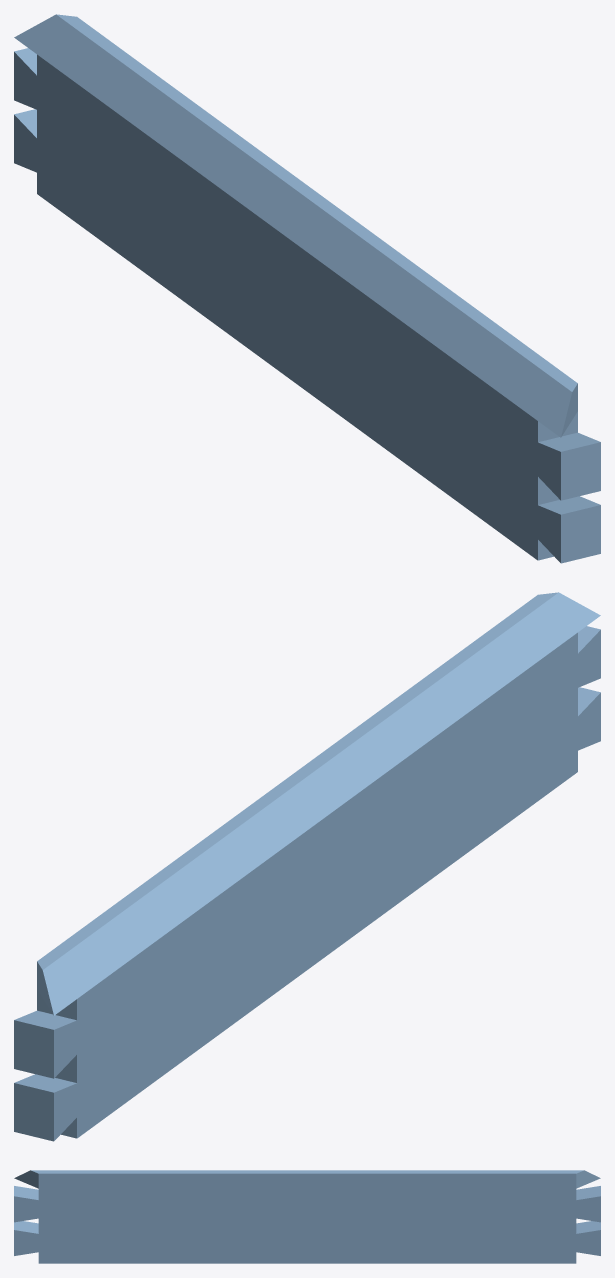
Rendered from original-101.obj.
3 renders of one model, top to bottom at view 1: azimuth 30°, elevation 25°; view 2: azimuth 150°, elevation 25°; view 3: azimuth 270°, elevation 25°, orthographic. The views are drawn at different scales.
Parts seen in each view (by area): view 1: Group95/mesh164/mesh164-geometry#mesh164-geometry; view 2: Group95/mesh164/mesh164-geometry#mesh164-geometry; view 3: Group95/mesh164/mesh164-geometry#mesh164-geometry.
Boxes of the visible parts, bbox=[...] form: Group95/mesh164/mesh164-geometry#mesh164-geometry: bbox=[14, 14, 600, 563]; Group95/mesh164/mesh164-geometry#mesh164-geometry: bbox=[14, 592, 600, 1141]; Group95/mesh164/mesh164-geometry#mesh164-geometry: bbox=[14, 1170, 600, 1263].
Bounding box in the file's own units: 0.0295 × 0.1182 × 0.6993.
